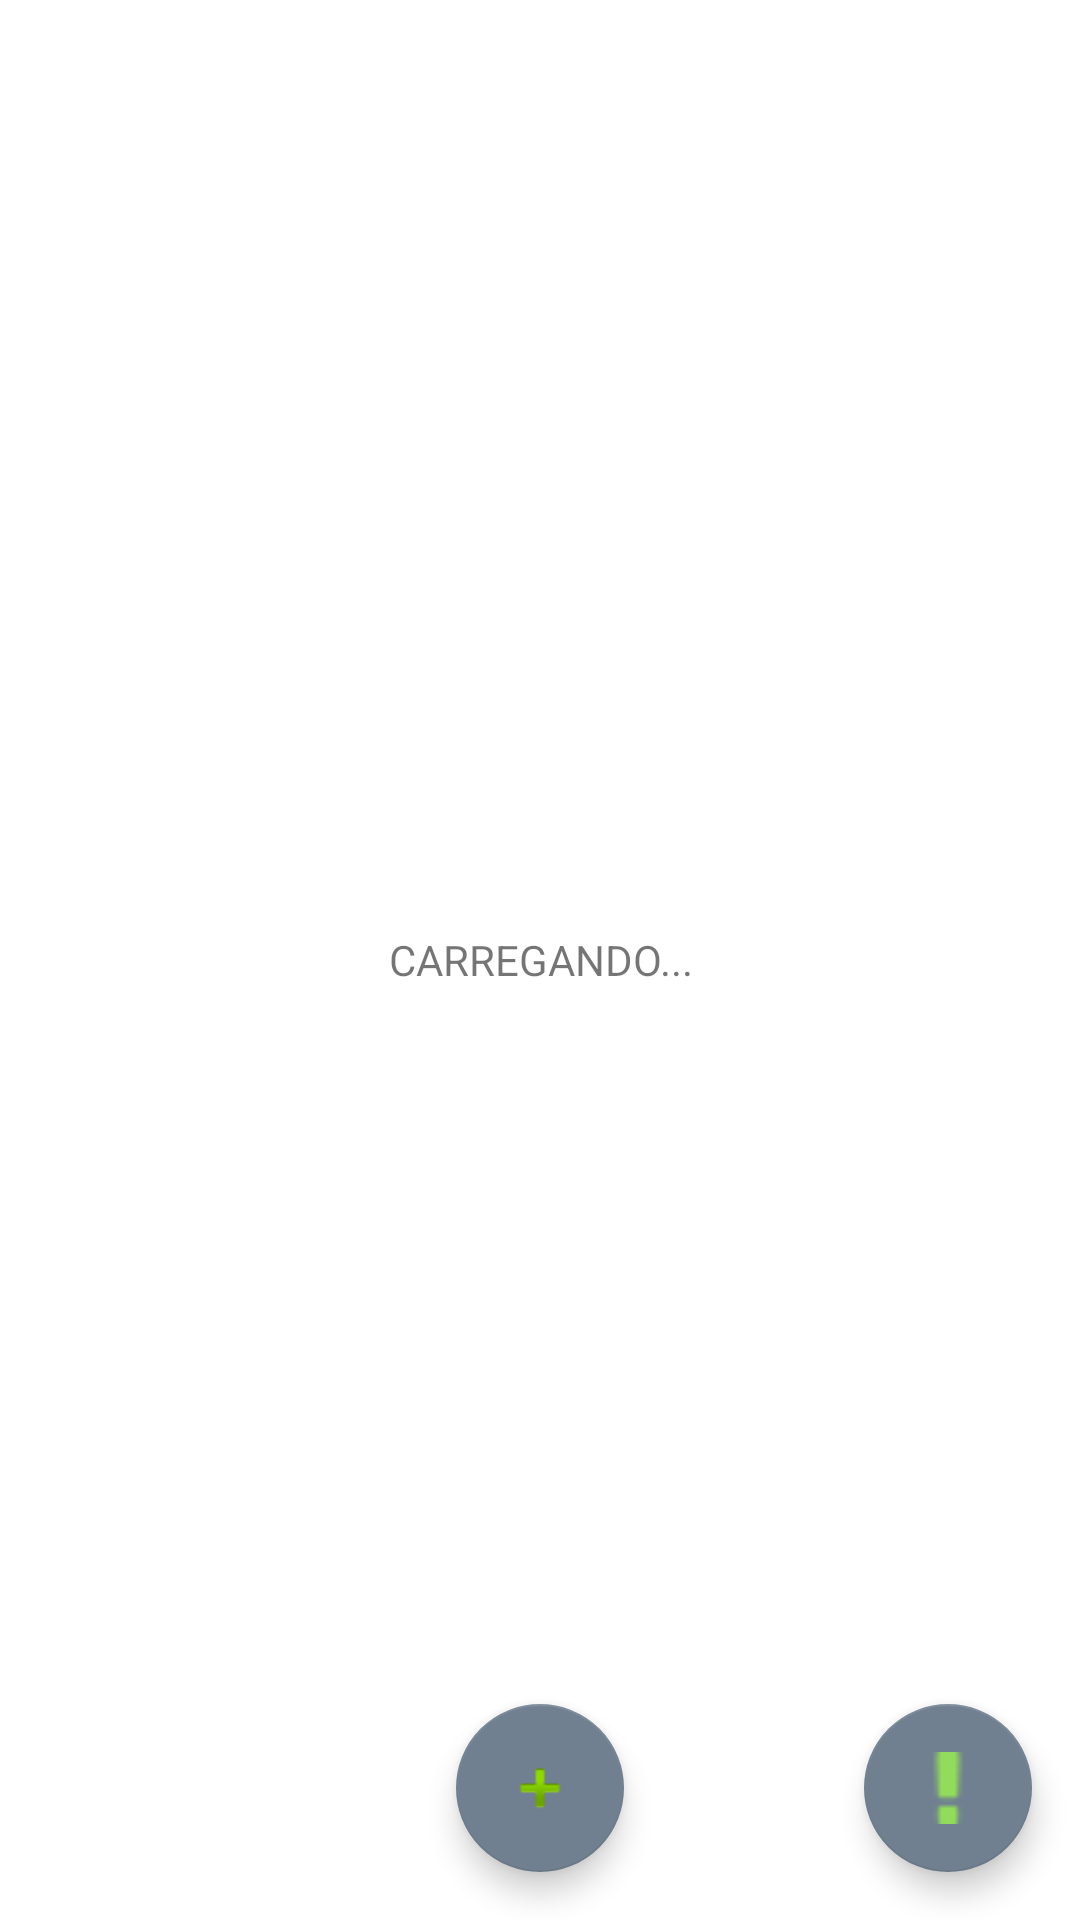

Named icons in this screenshot (1080×1920) and their bounding boxes, (x1, y1, x2, y2):
add: (456, 1704, 624, 1872)
exclamation: (864, 1704, 1032, 1872)
